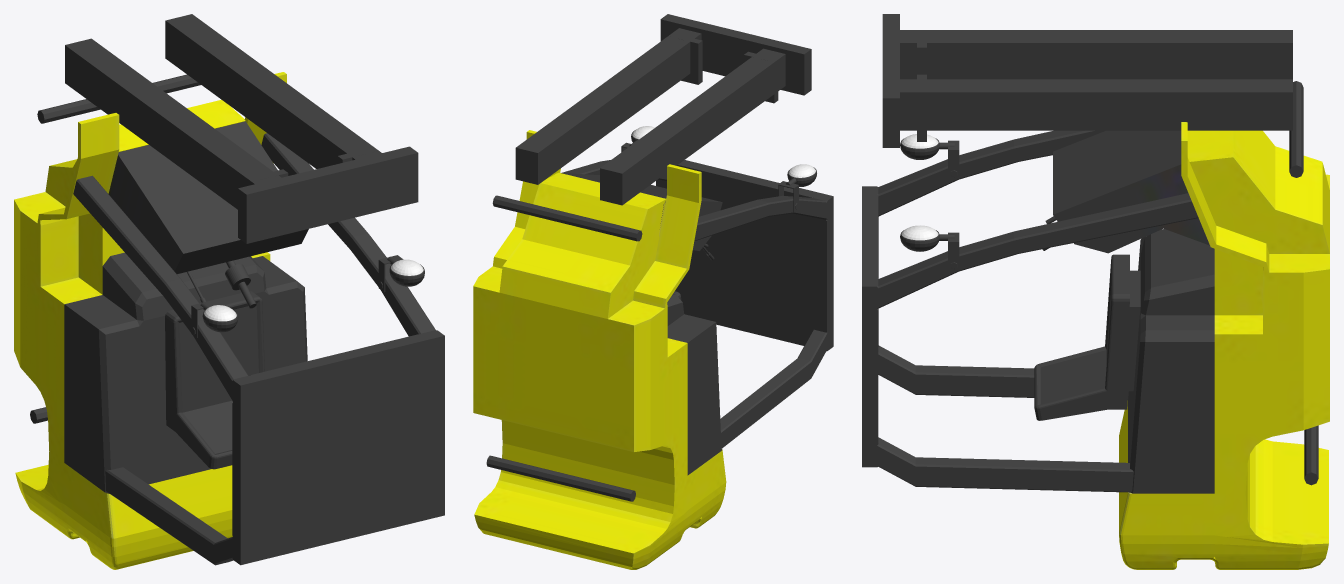
File: forklift2.obj
The picture shows the model from 3 angles, left to right: view 1: azimuth 30°, elevation 25°; view 2: azimuth 150°, elevation 25°; view 3: azimuth 270°, elevation 25°; orthographic projection. The views are drawn at different scales.
Visible parts, largest first — view 1: forklift2.001; view 2: forklift2.001; view 3: forklift2.001.
Part boxes in pixels (x1=…): forklift2.001: x1=14, y1=14, x2=444, y2=569; forklift2.001: x1=473, y1=14, x2=833, y2=569; forklift2.001: x1=862, y1=14, x2=1329, y2=569.
Bounding box in the file's own units: 1.58 × 3.25 × 2.94.
